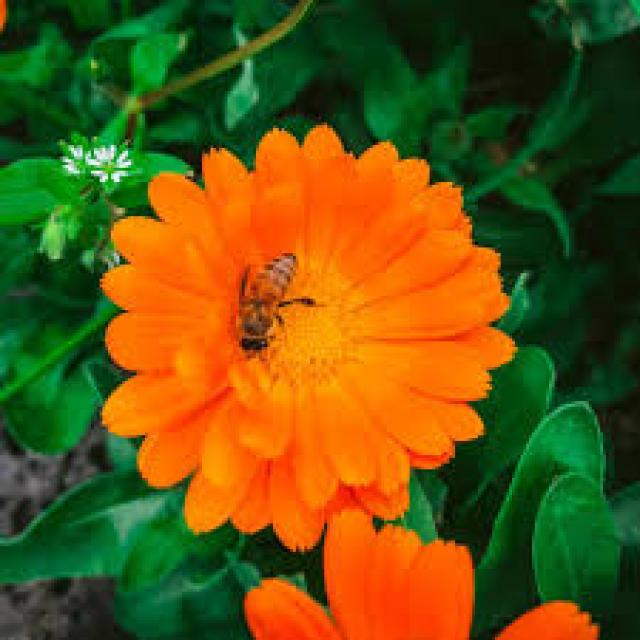Bees: (235, 249, 321, 356)
